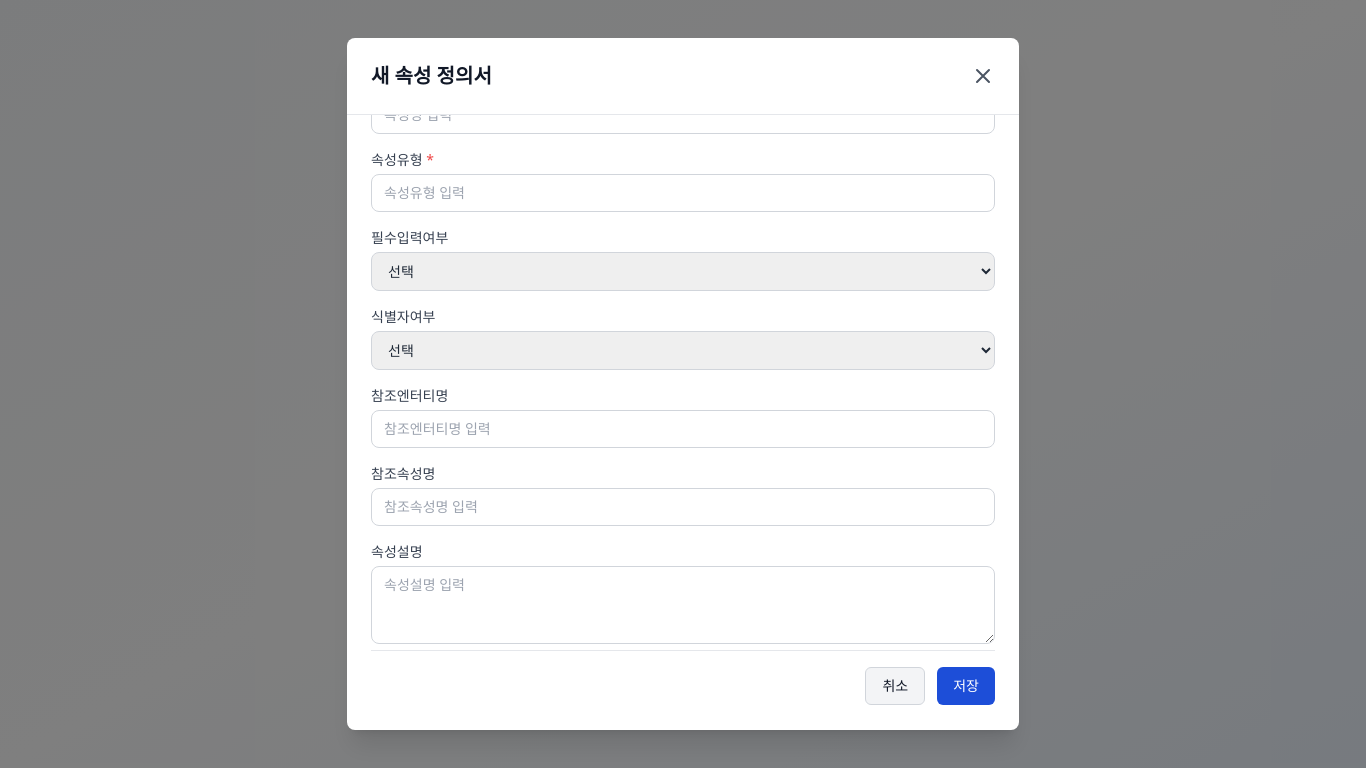
Test: AttributeEditor › Form Validation › should show error message when form is submitted with empty required fields
(page scrolled)
Click the button "저장": (966, 686) 937,667 -> 995,705
(page scrolled)
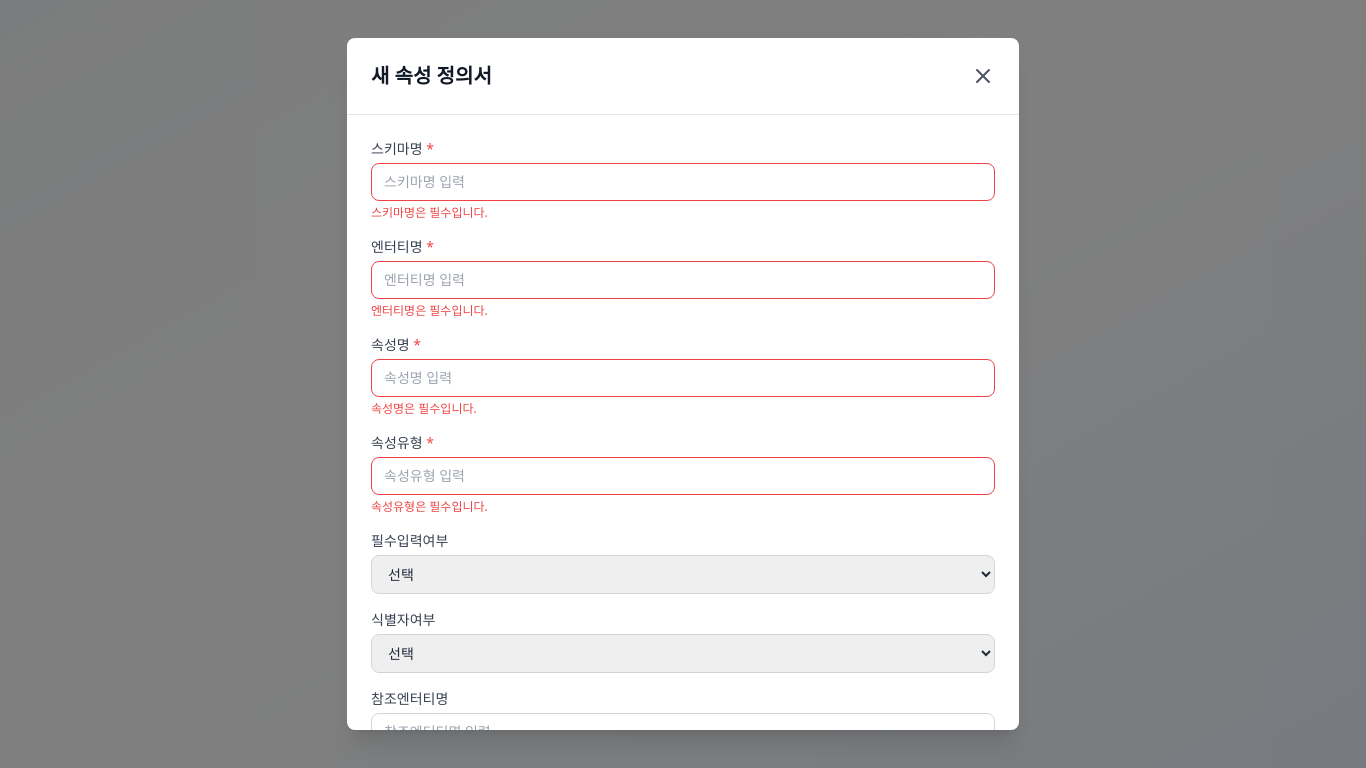
Check: the text "스키마명은 필수입니다." is shown, box 371,204 -> 488,221
